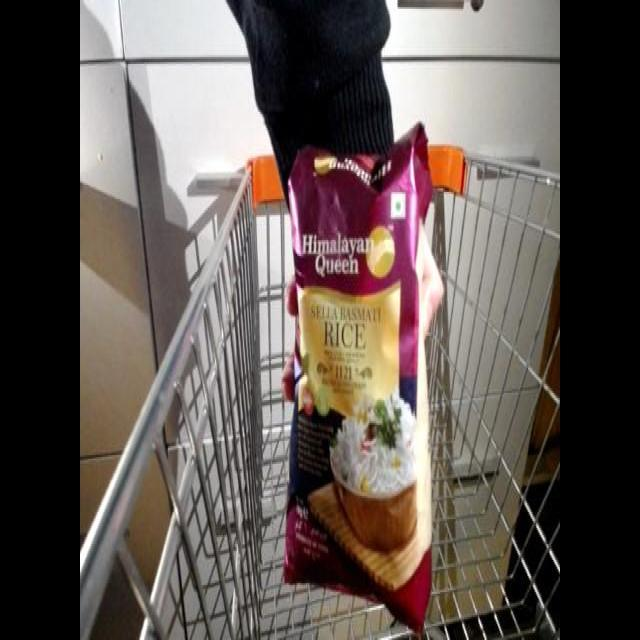Basmati Rice: (280, 108, 441, 634)
